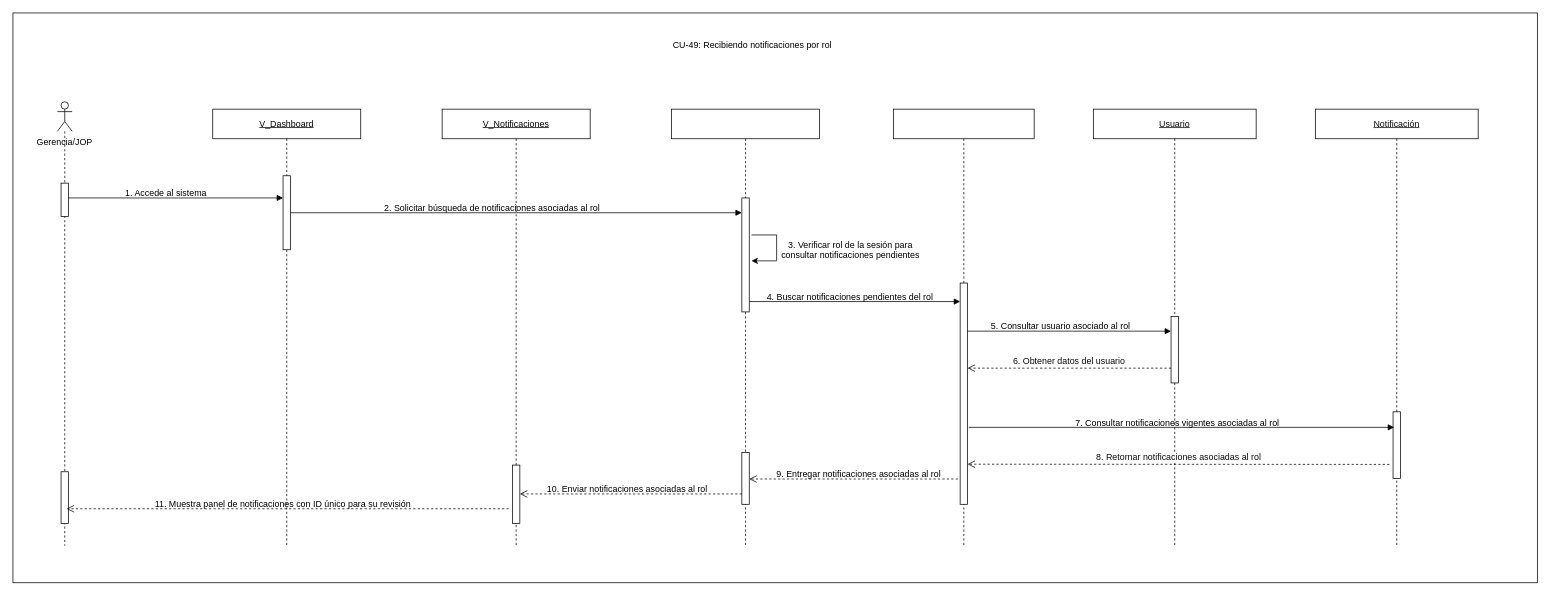
This 1550x596 diagram has some shape labels left out. The shapes that lost their labels are listed below. From the top down, each one's box as (x1, y1, x2, y2) in pixels, then its label:
(671, 108, 820, 546): C_notificaciones
(893, 108, 1034, 546): C_Postgre
